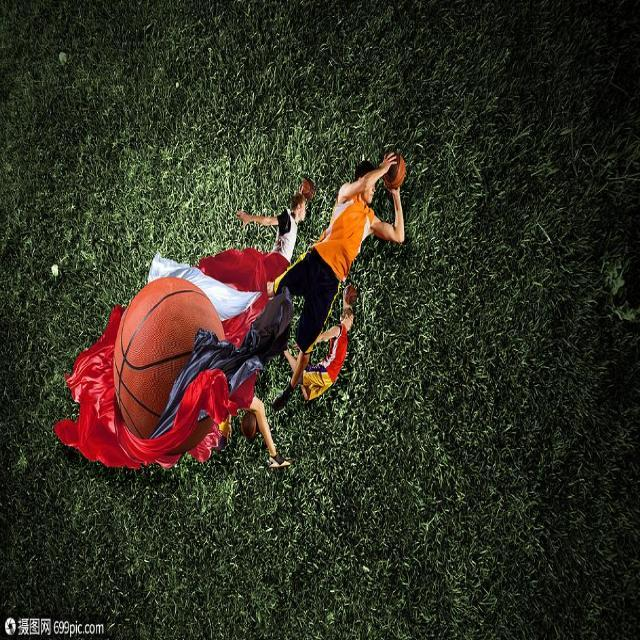rim: (114, 280, 225, 450), (382, 154, 408, 188), (240, 410, 256, 440), (300, 180, 314, 198), (344, 284, 356, 303)
